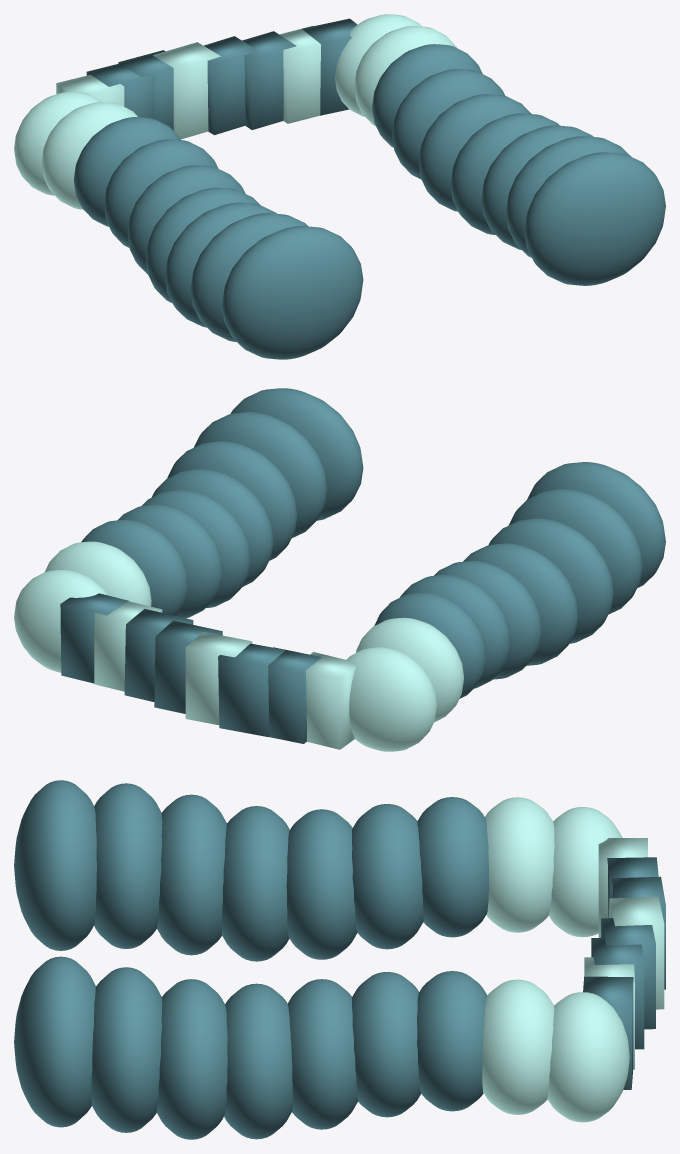
Rendered from reef-arch-mid-01.glb.
3 views of the same model, one above another, from view 1: azimuth 30°, elevation 25°; view 2: azimuth 150°, elevation 25°; view 3: azimuth 270°, elevation 25° (orthographic). The views are drawn at different scales.
Parts seen in each view (by area): view 1: reef_arch_mid_01_pillar_1_00, reef_arch_mid_01_pillar_-1_00, reef_arch_mid_01_pillar_1_04, reef_arch_mid_01_pillar_-1_01, reef_arch_mid_01_pillar_1_05, reef_arch_mid_01_pillar_-1_06, reef_arch_mid_01_pillar_-1_05, reef_arch_mid_01_pillar_1_03, reef_arch_mid_01_pillar_-1_07, reef_arch_mid_01_pillar_1_06, reef_arch_mid_01_pillar_-1_04, reef_arch_mid_01_pillar_-1_02 (+14 smaller); view 2: reef_arch_mid_01_pillar_-1_08, reef_arch_mid_01_pillar_1_00, reef_arch_mid_01_pillar_1_01, reef_arch_mid_01_pillar_-1_01, reef_arch_mid_01_pillar_-1_02, reef_arch_mid_01_pillar_-1_00, reef_arch_mid_01_pillar_-1_03, reef_arch_mid_01_pillar_1_02, reef_arch_mid_01_pillar_1_08, reef_arch_mid_01_pillar_1_05, reef_arch_mid_01_pillar_1_06, reef_arch_mid_01_pillar_-1_07 (+14 smaller); view 3: reef_arch_mid_01_pillar_-1_00, reef_arch_mid_01_pillar_1_00, reef_arch_mid_01_pillar_1_01, reef_arch_mid_01_pillar_-1_01, reef_arch_mid_01_pillar_1_02, reef_arch_mid_01_pillar_-1_02, reef_arch_mid_01_pillar_1_03, reef_arch_mid_01_pillar_-1_03, reef_arch_mid_01_pillar_-1_04, reef_arch_mid_01_pillar_-1_05, reef_arch_mid_01_pillar_1_04, reef_arch_mid_01_pillar_1_08 (+14 smaller).
Part boxes in pixels (x1,y1,x2,y2): reef_arch_mid_01_pillar_1_00: (524,152,665,285); reef_arch_mid_01_pillar_-1_00: (222,226,363,359); reef_arch_mid_01_pillar_1_04: (419,94,531,211); reef_arch_mid_01_pillar_-1_01: (190,213,307,341); reef_arch_mid_01_pillar_1_05: (392,69,505,179); reef_arch_mid_01_pillar_-1_06: (74,117,180,226); reef_arch_mid_01_pillar_-1_05: (104,139,218,247); reef_arch_mid_01_pillar_1_03: (450,113,559,234); reef_arch_mid_01_pillar_-1_07: (41,102,137,209); reef_arch_mid_01_pillar_1_06: (372,44,482,147); reef_arch_mid_01_pillar_-1_04: (127,165,245,274); reef_arch_mid_01_pillar_-1_02: (165,202,276,327); reef_arch_mid_01_pillar_-1_08: (346,647,436,751); reef_arch_mid_01_pillar_1_00: (230,388,363,520); reef_arch_mid_01_pillar_1_01: (194,412,327,537); reef_arch_mid_01_pillar_-1_01: (508,489,642,614); reef_arch_mid_01_pillar_-1_02: (488,518,613,643); reef_arch_mid_01_pillar_-1_00: (527,462,665,587); reef_arch_mid_01_pillar_-1_03: (463,543,578,665); reef_arch_mid_01_pillar_1_02: (167,441,297,560); reef_arch_mid_01_pillar_1_08: (14,570,108,672); reef_arch_mid_01_pillar_1_05: (118,504,222,618); reef_arch_mid_01_pillar_1_06: (81,520,187,615); reef_arch_mid_01_pillar_-1_07: (356,617,463,722); reef_arch_mid_01_pillar_-1_00: (14,780,96,950); reef_arch_mid_01_pillar_1_00: (14,956,95,1127); reef_arch_mid_01_pillar_1_01: (91,967,162,1132); reef_arch_mid_01_pillar_-1_01: (94,783,162,948); reef_arch_mid_01_pillar_1_02: (156,979,227,1139); reef_arch_mid_01_pillar_-1_02: (157,794,226,955); reef_arch_mid_01_pillar_1_03: (224,983,292,1139); reef_arch_mid_01_pillar_-1_03: (221,806,289,961); reef_arch_mid_01_pillar_-1_04: (286,809,357,959); reef_arch_mid_01_pillar_-1_05: (351,804,423,949); reef_arch_mid_01_pillar_1_04: (288,979,358,1129); reef_arch_mid_01_pillar_1_08: (547,992,629,1122).
Bounding box in the file's own units: 4.72 × 1.39 × 5.
